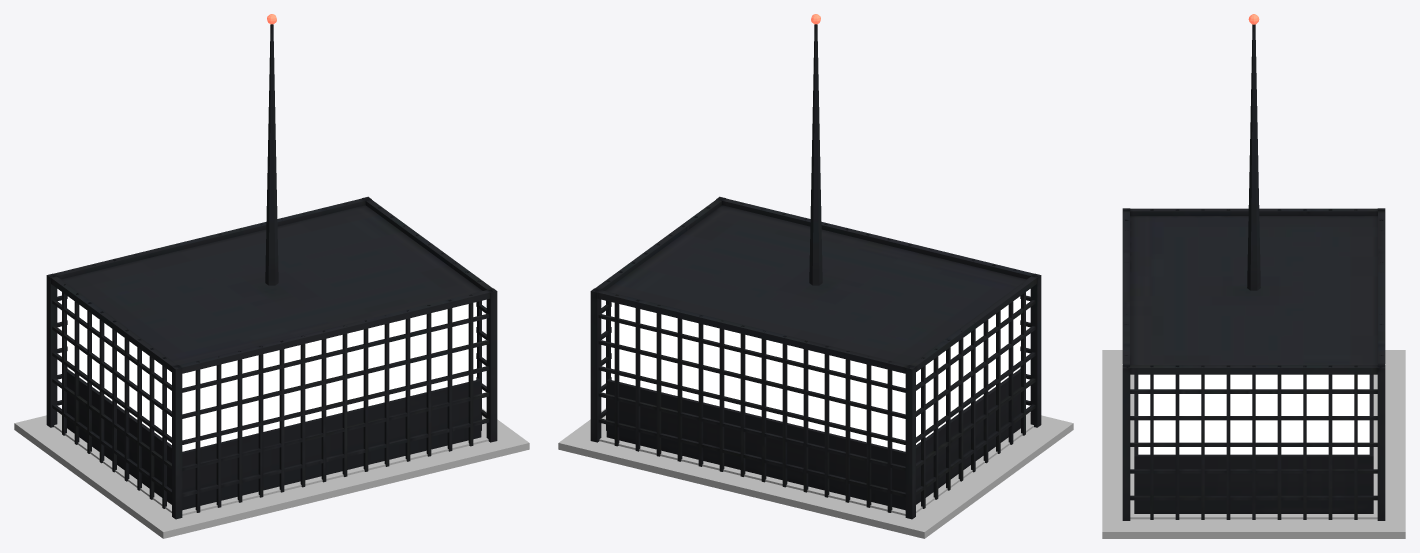
File: tower-dark.glb
3 views of the same model, side by side, from view 1: azimuth 30°, elevation 25°; view 2: azimuth 150°, elevation 25°; view 3: azimuth 270°, elevation 25° (orthographic).
Visible parts, largest first — view 1: Crown, Glow, Body, Frame; view 2: Crown, Glow, Body, Frame; view 3: Crown, Glow, Frame, Body.
Part boxes in pixels (left/top/right/bottom): Crown: left=46, top=24, right=497, bottom=519; Glow: left=67, top=296, right=476, bottom=451; Body: left=14, top=408, right=529, bottom=538; Frame: left=341, top=416, right=525, bottom=484; Crown: left=590, top=24, right=1041, bottom=519; Glow: left=611, top=296, right=1020, bottom=451; Body: left=558, top=408, right=1073, bottom=538; Frame: left=562, top=416, right=758, bottom=488; Crown: left=1122, top=24, right=1385, bottom=520; Glow: left=1138, top=374, right=1369, bottom=454; Frame: left=1104, top=351, right=1403, bottom=530; Body: left=1102, top=350, right=1405, bottom=538.
Bounding box in the file's own units: 44 × 48.85 × 31.
5 materials, 1 textured.
